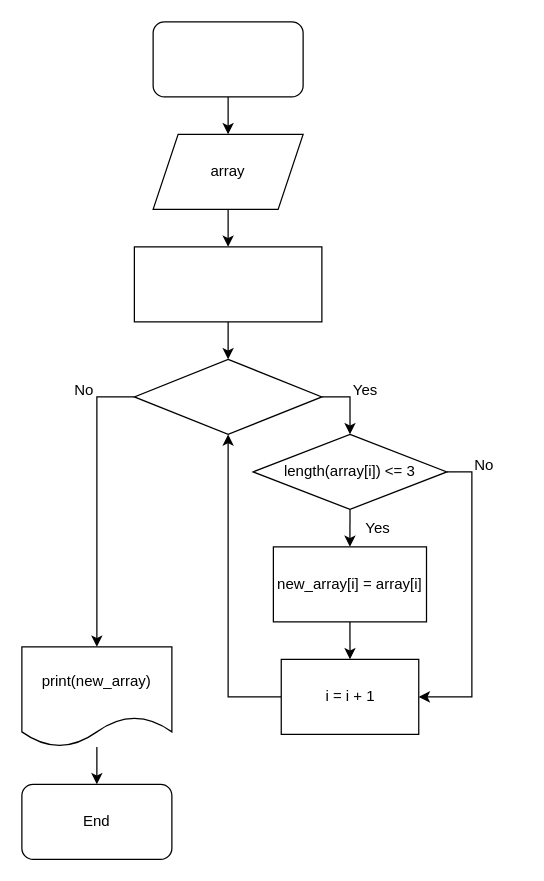
Image size: 544x881. Some labels were removed from this diagram. The centre of each missing label's shape, as x and y in pixels:
"i < length(array)" belongs at pixel 227 396.
"i = 0 new_array[length(array)]" belongs at pixel 227 284.
"Start" belongs at pixel 227 59.
